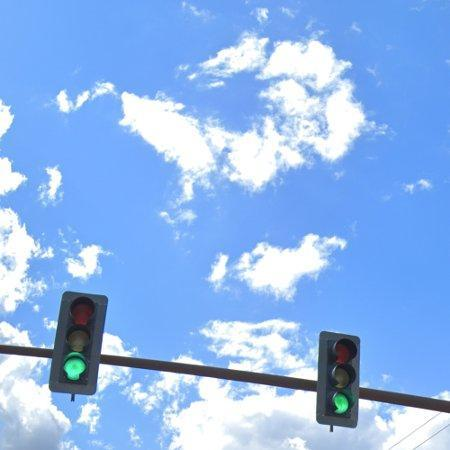traffic lights: (49, 289, 110, 396), (318, 330, 364, 429)
